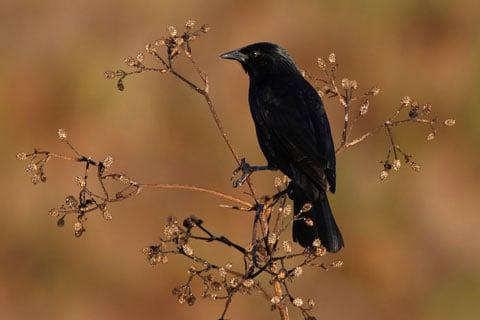grauna: (217, 40, 351, 255)
